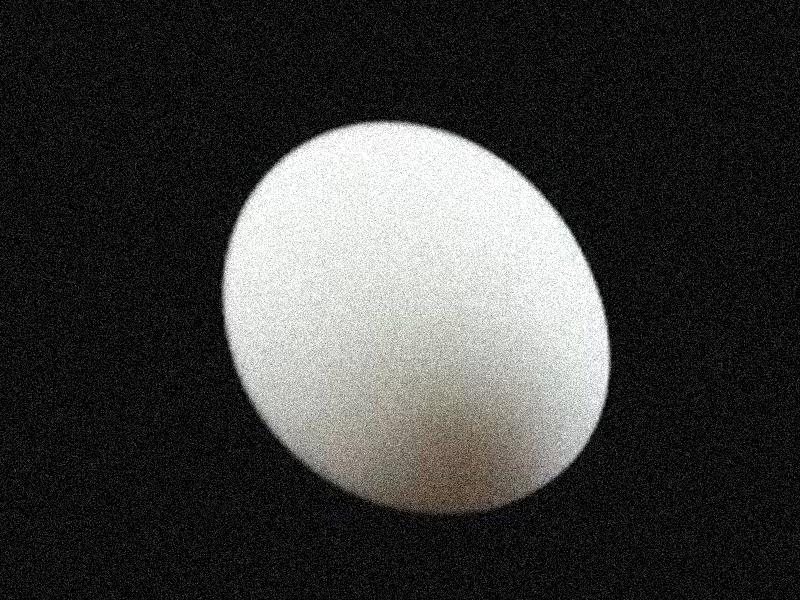Eggs: (224, 121, 611, 508)
